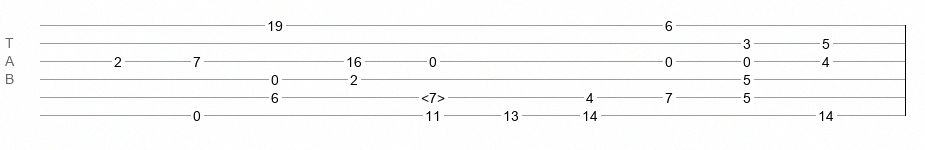0: (193, 108, 201, 118), (271, 72, 279, 82), (429, 54, 437, 64), (665, 54, 673, 64), (743, 54, 751, 64)
11: (425, 108, 441, 118)
13: (503, 108, 519, 118)
14: (582, 108, 598, 118), (818, 108, 834, 118)
16: (346, 54, 362, 64)
19: (267, 18, 283, 28)
2: (114, 54, 122, 64), (350, 72, 358, 82)
3: (743, 36, 751, 46)
4: (586, 90, 594, 100), (822, 54, 830, 64)
5: (743, 72, 751, 82), (743, 90, 751, 100), (822, 36, 830, 46)
6: (271, 90, 279, 100), (665, 18, 673, 28)
7: (193, 54, 201, 64), (665, 90, 673, 100)
harmonic: (421, 90, 445, 100)
